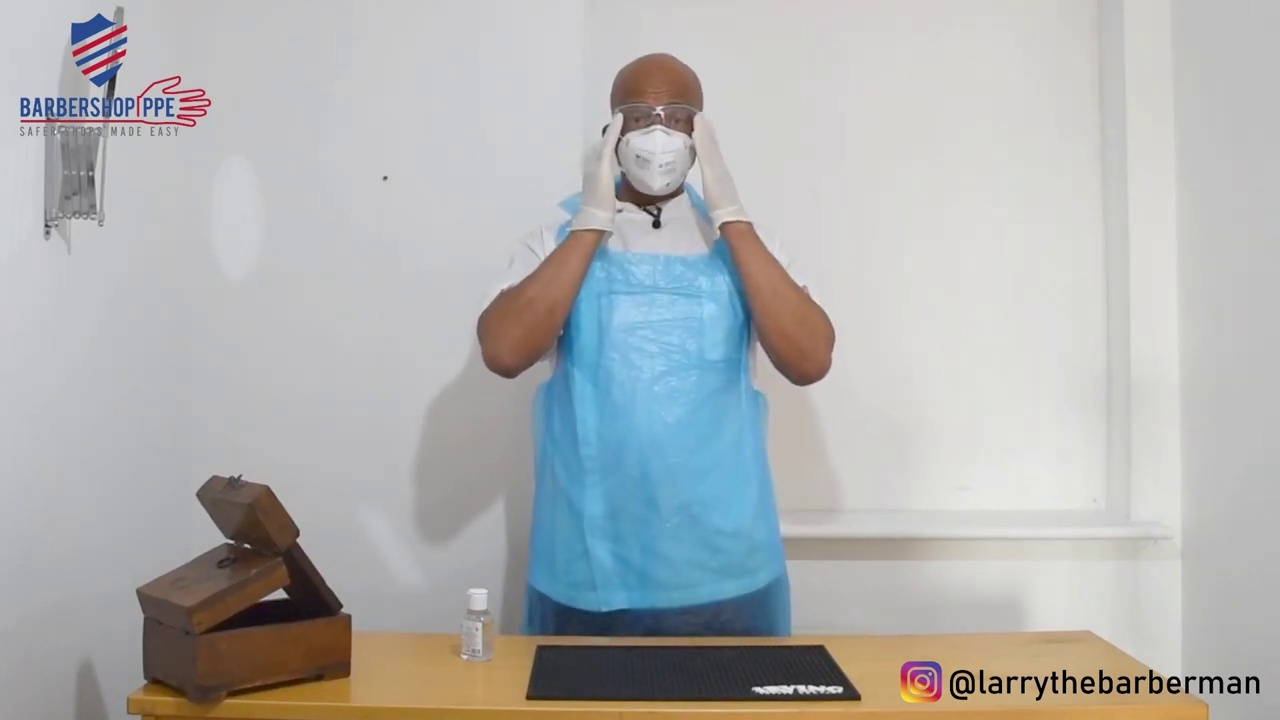Apron: (503, 166, 798, 644)
Glove: (529, 104, 635, 247), (665, 97, 760, 236)
Mask: (598, 116, 707, 201)
No_Hairnet: (598, 38, 712, 127)
